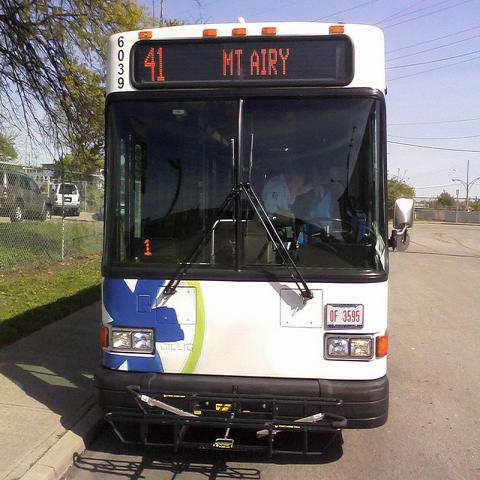bus: (90, 23, 414, 461)
car: (0, 169, 52, 223), (54, 183, 80, 217), (100, 196, 104, 221)
